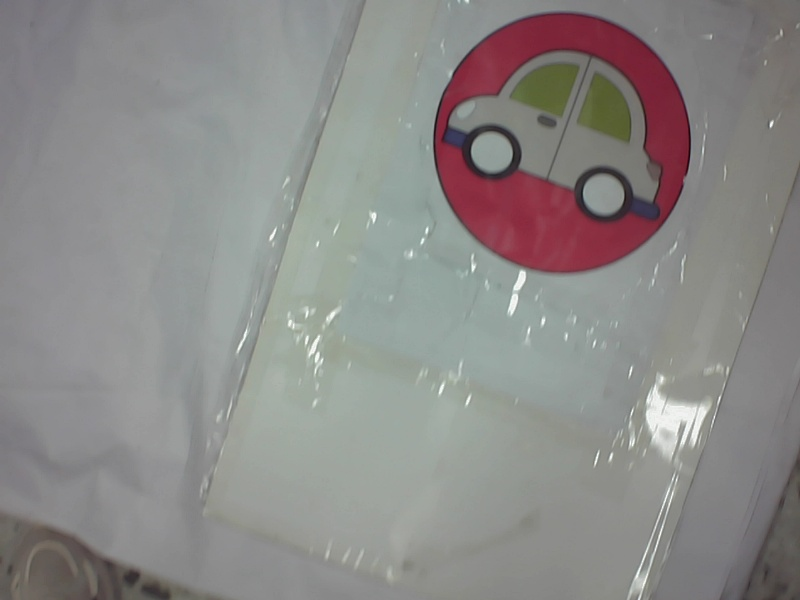areaC: (433, 5, 702, 277)
